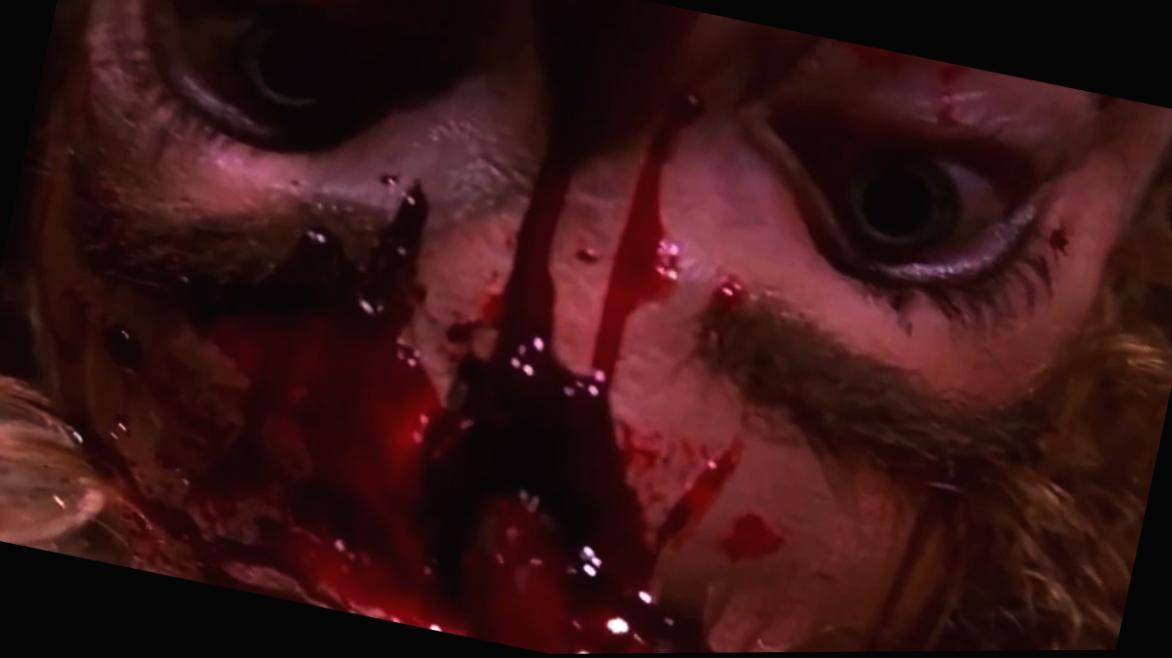Fire: (82, 83, 788, 655), (856, 45, 969, 88), (707, 268, 782, 319), (1099, 97, 1134, 124), (929, 107, 958, 134)
